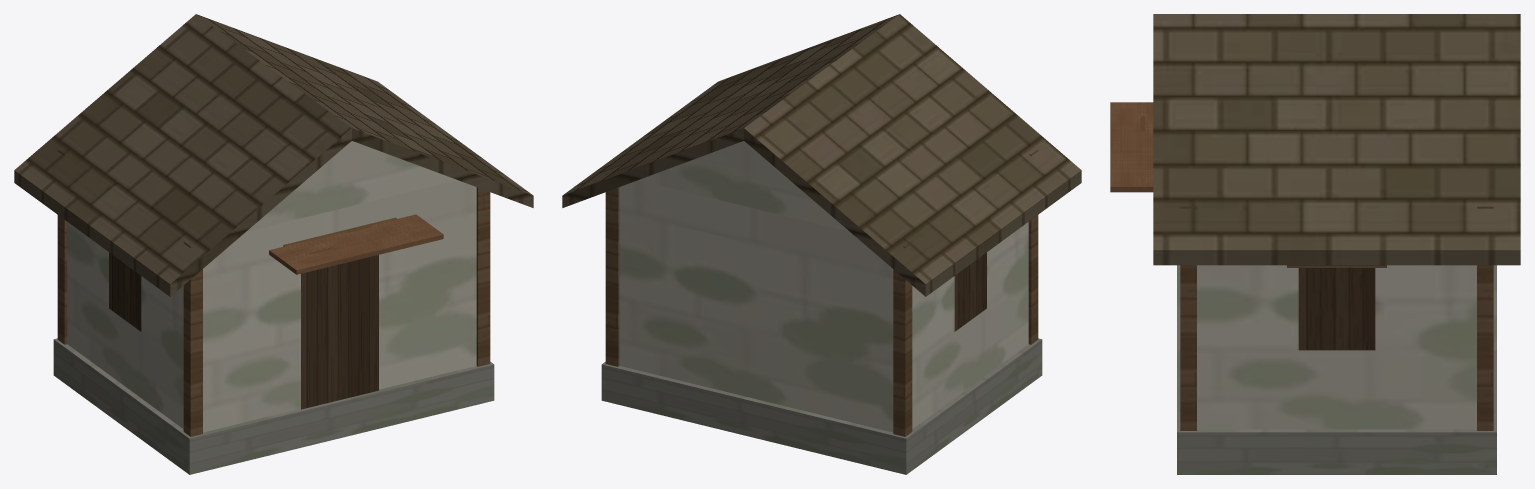
File: ae_forest_stone_small_booth_lod1.glb
The picture shows the model from 3 angles, left to right: view 1: azimuth 30°, elevation 25°; view 2: azimuth 150°, elevation 25°; view 3: azimuth 270°, elevation 25°; orthographic projection. The views are drawn at different scales.
Parts seen in each view (by area): view 1: ae_forest_stone_small_booth_lod1; view 2: ae_forest_stone_small_booth_lod1; view 3: ae_forest_stone_small_booth_lod1.
Boxes of the visible parts, box(x1,y1,x2,y2) form: ae_forest_stone_small_booth_lod1: box(14, 14, 533, 474); ae_forest_stone_small_booth_lod1: box(562, 14, 1081, 474); ae_forest_stone_small_booth_lod1: box(1110, 14, 1520, 474).
Size of the model in its own units: 4.2 by 3.5 by 3.49.
Materials: 1 (1 with a texture image).
